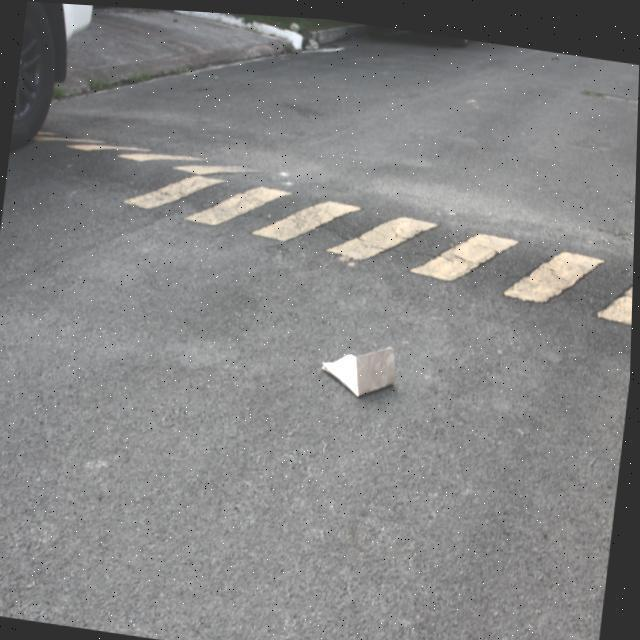Paper_Bag: (322, 330, 404, 400)
